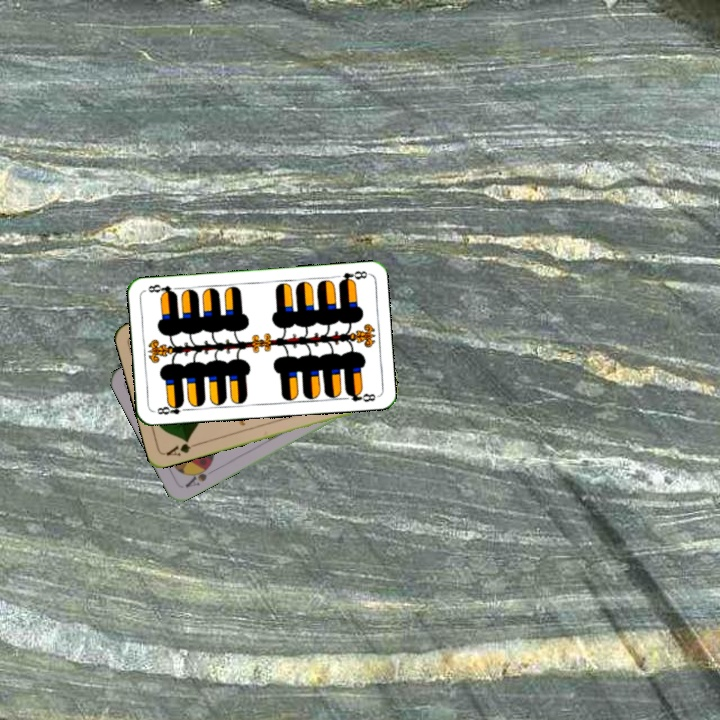E8: (153, 399, 191, 417), (335, 267, 371, 286)
GA: (162, 435, 201, 459)
SA: (181, 460, 214, 490)
